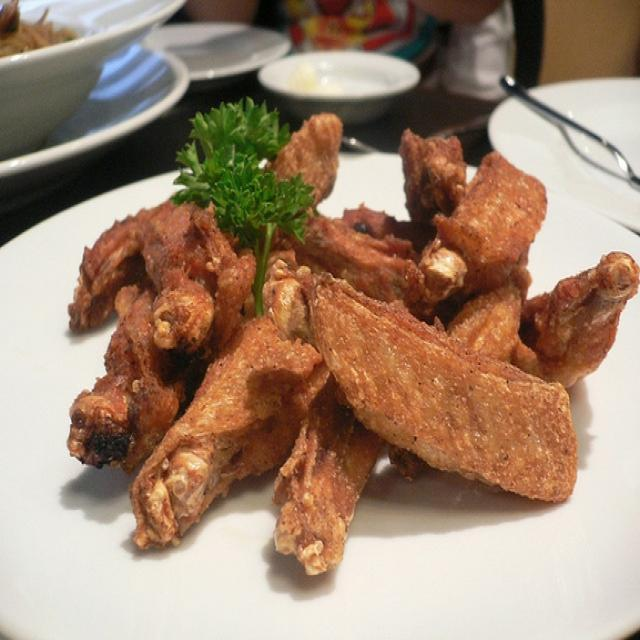Deep fried chicken wing: (75, 135, 627, 569)
